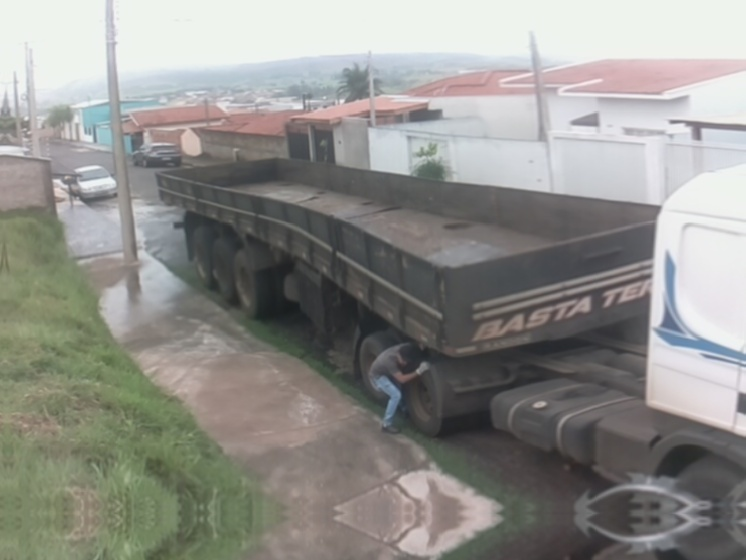person: (368, 340, 433, 435)
